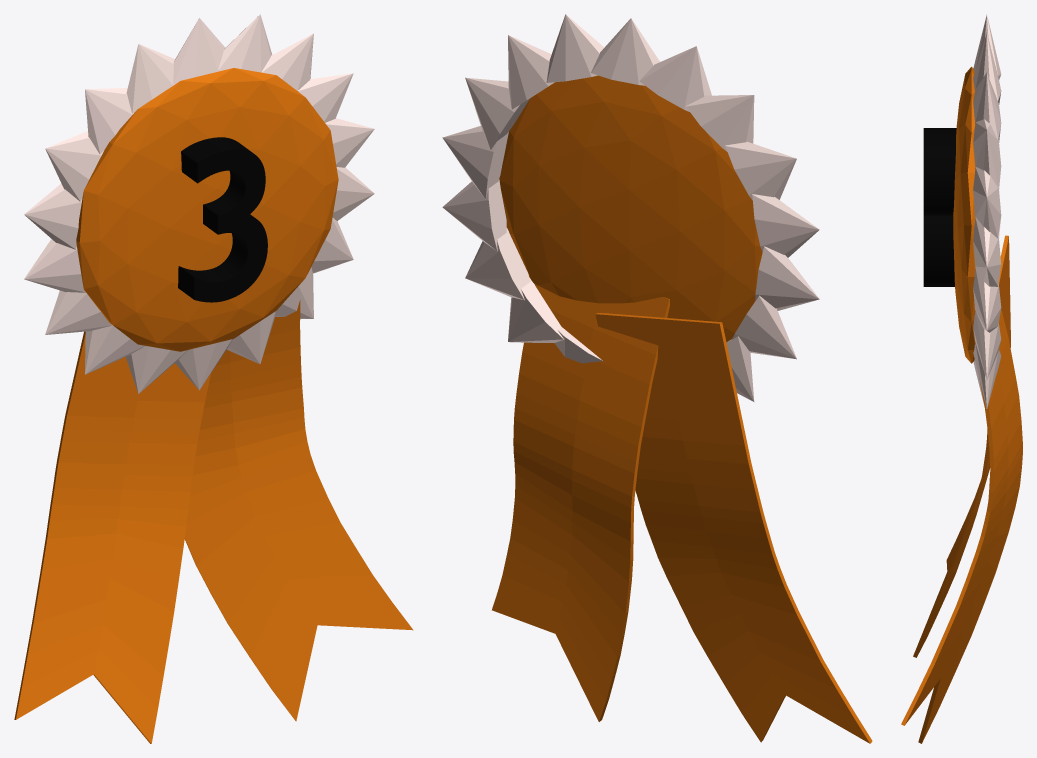
3 views of the same model, side by side, from view 1: azimuth 30°, elevation 25°; view 2: azimuth 150°, elevation 25°; view 3: azimuth 270°, elevation 25° (orthographic). The views are drawn at different scales.
Parts seen in each view (by area): view 1: Cube.001; view 2: Cube.001; view 3: Cube.001.
Boxes of the visible parts, x1,y1,x2,y2 form: Cube.001: (14,14,413,743); Cube.001: (442,14,872,743); Cube.001: (901,14,1022,743).
Bounding box in the file's own units: 5384 × 9415 × 1527.
